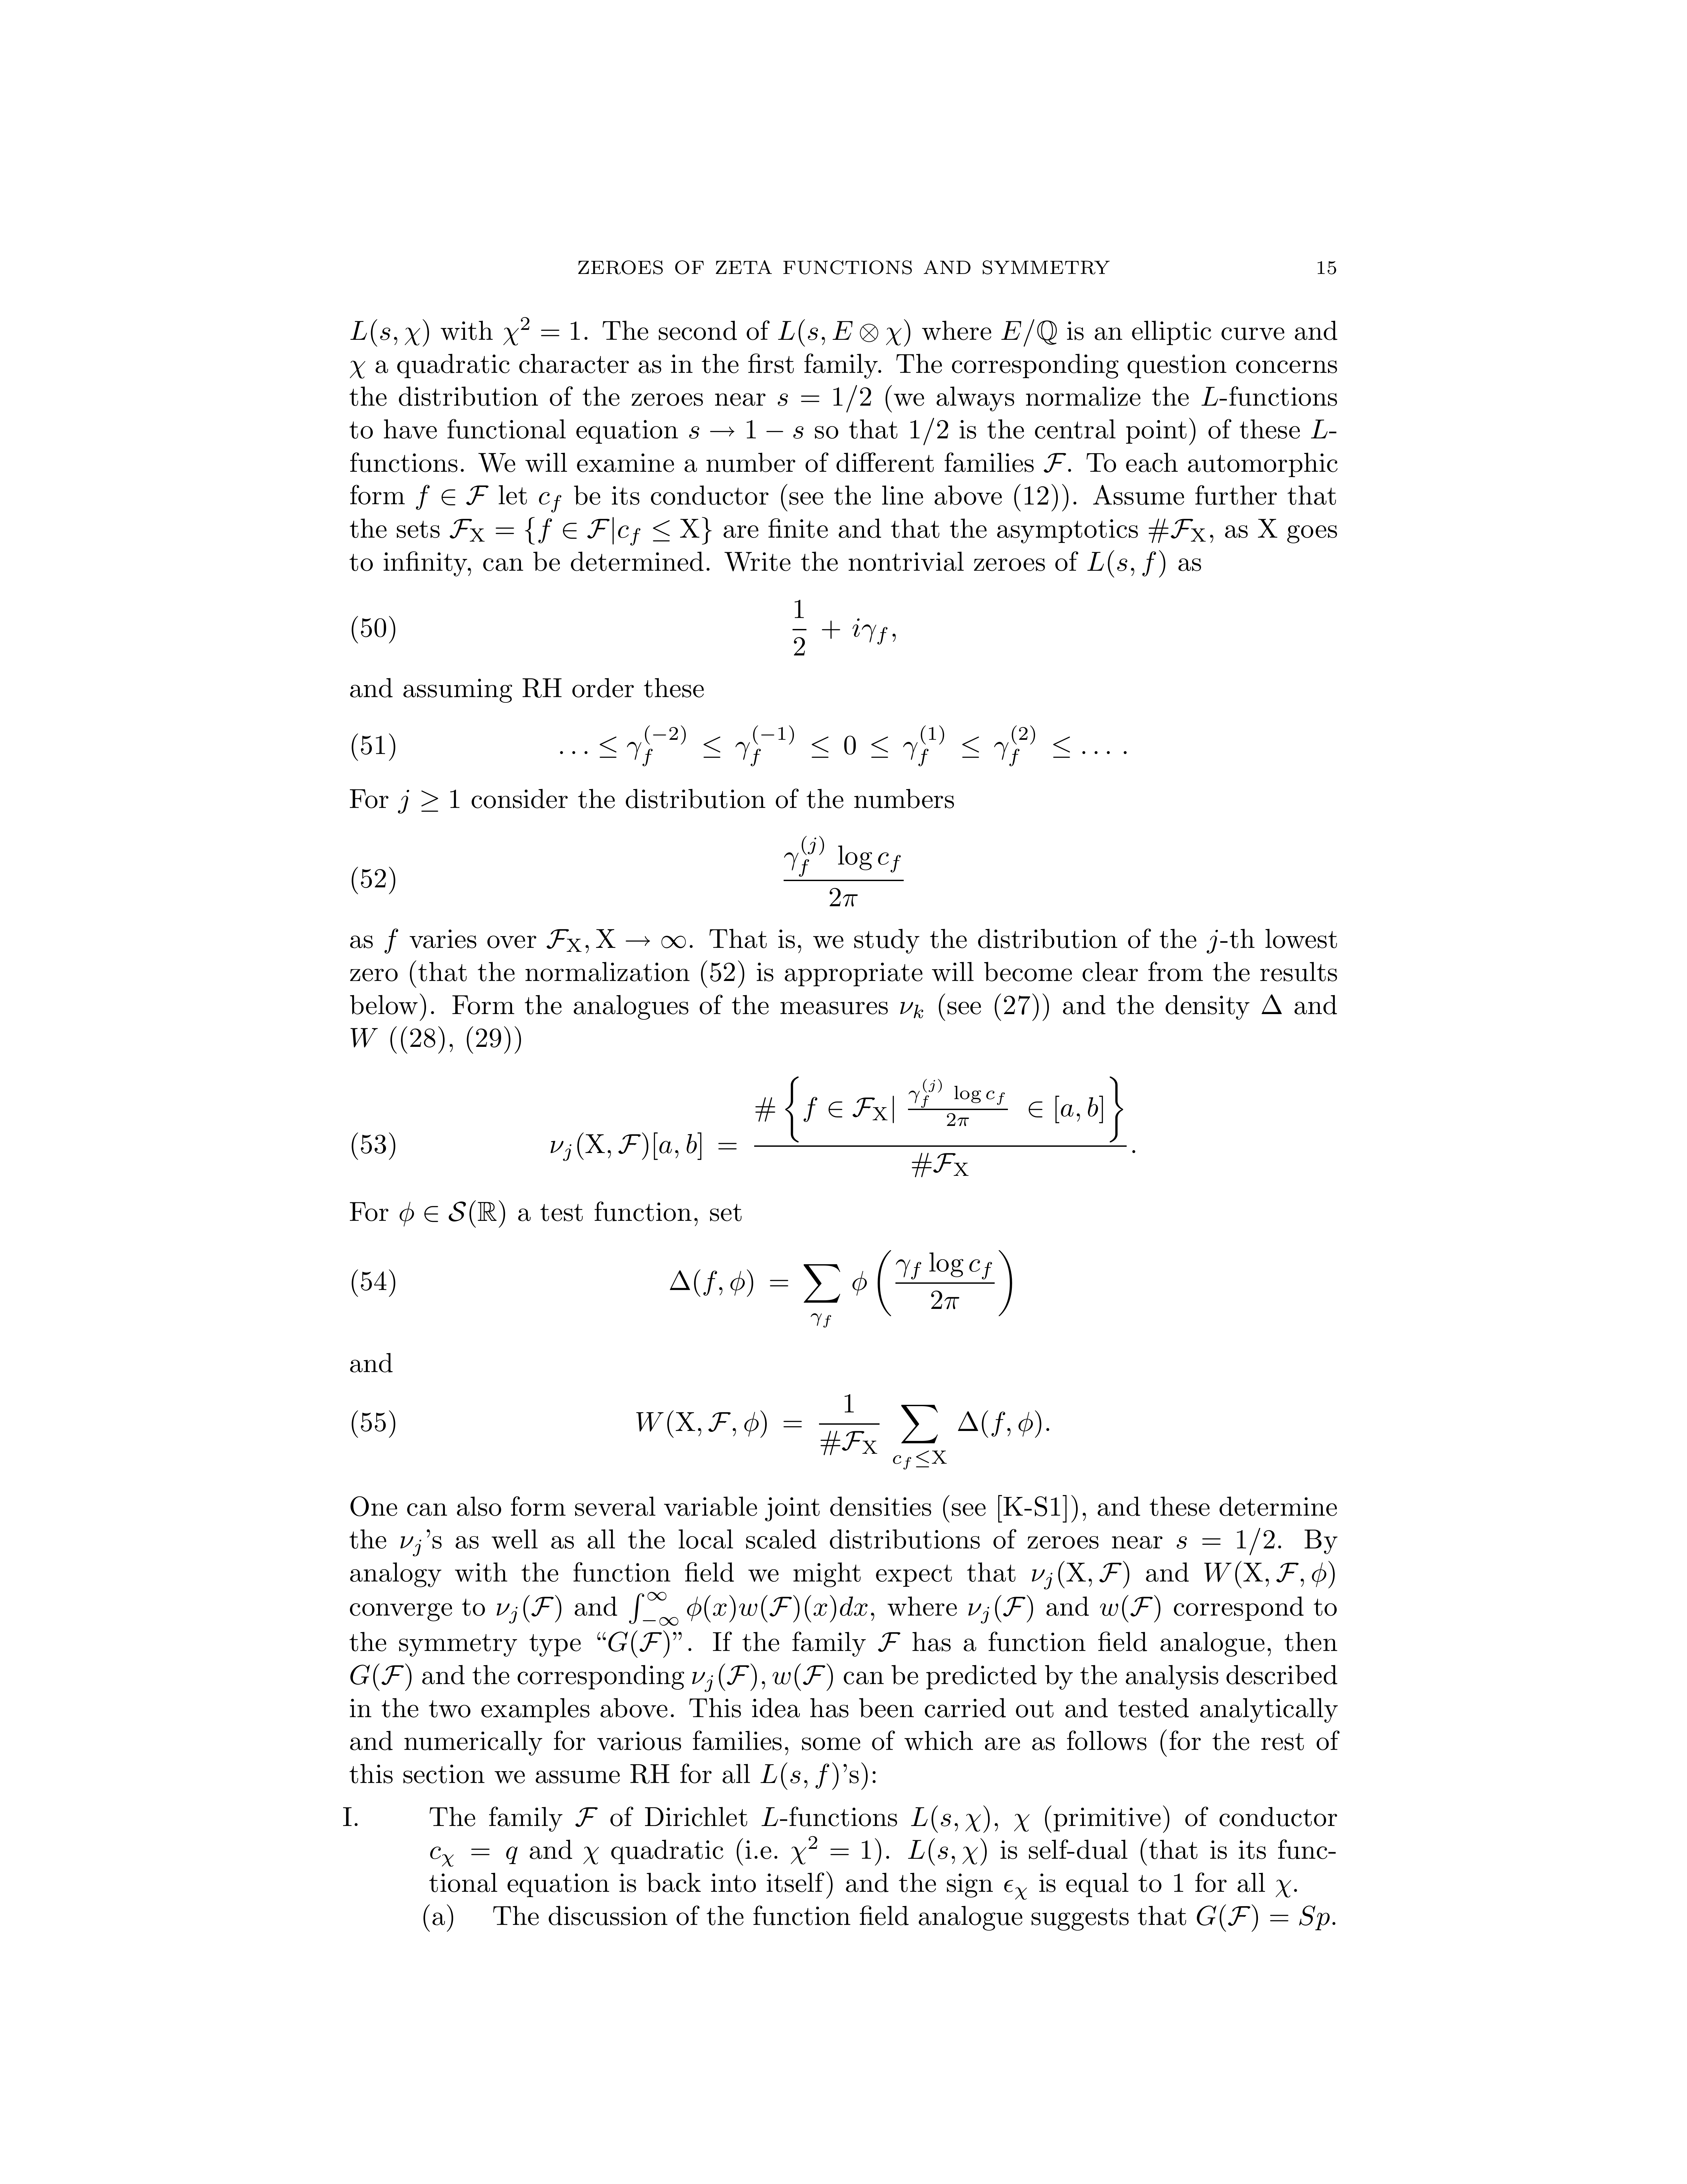maths: (551, 1076, 1127, 1177), (636, 1393, 1040, 1470), (670, 1250, 1012, 1328), (599, 725, 1109, 766), (783, 837, 904, 906), (629, 1592, 867, 1626), (450, 518, 711, 546), (792, 599, 888, 656), (1196, 1904, 1329, 1932), (778, 319, 911, 346), (1205, 1562, 1334, 1588), (399, 1200, 505, 1227), (778, 385, 870, 413), (1177, 1528, 1274, 1555), (1031, 1562, 1129, 1588), (911, 1805, 998, 1833), (790, 1837, 870, 1865), (760, 1762, 838, 1790), (503, 317, 579, 346), (1088, 550, 1164, 578), (907, 1838, 987, 1865), (351, 319, 429, 346), (693, 1663, 766, 1691), (689, 420, 803, 438), (496, 1595, 562, 1624), (969, 1595, 1033, 1624), (595, 929, 686, 948), (351, 1663, 411, 1691), (773, 1663, 833, 1691), (431, 1847, 517, 1867), (416, 486, 489, 509), (608, 1631, 670, 1657), (1100, 1595, 1161, 1622), (1001, 319, 1056, 346), (1148, 518, 1205, 542), (399, 791, 459, 814), (548, 929, 588, 954), (351, 1028, 377, 1048), (539, 493, 562, 512), (1044, 454, 1065, 473), (879, 1633, 900, 1652), (576, 1806, 597, 1826), (1005, 1879, 1026, 1899), (1262, 994, 1281, 1014), (400, 1537, 420, 1556), (900, 1002, 923, 1018), (385, 929, 399, 954), (1258, 519, 1278, 537), (1201, 386, 1217, 406), (762, 1806, 778, 1826), (349, 360, 365, 378), (1311, 420, 1327, 438), (1014, 1813, 1030, 1831), (583, 1847, 599, 1865), (1276, 1879, 1290, 1897)
